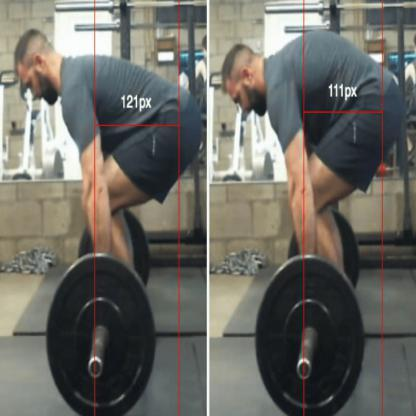Barbell: (297, 358, 314, 383), (89, 354, 104, 381)
